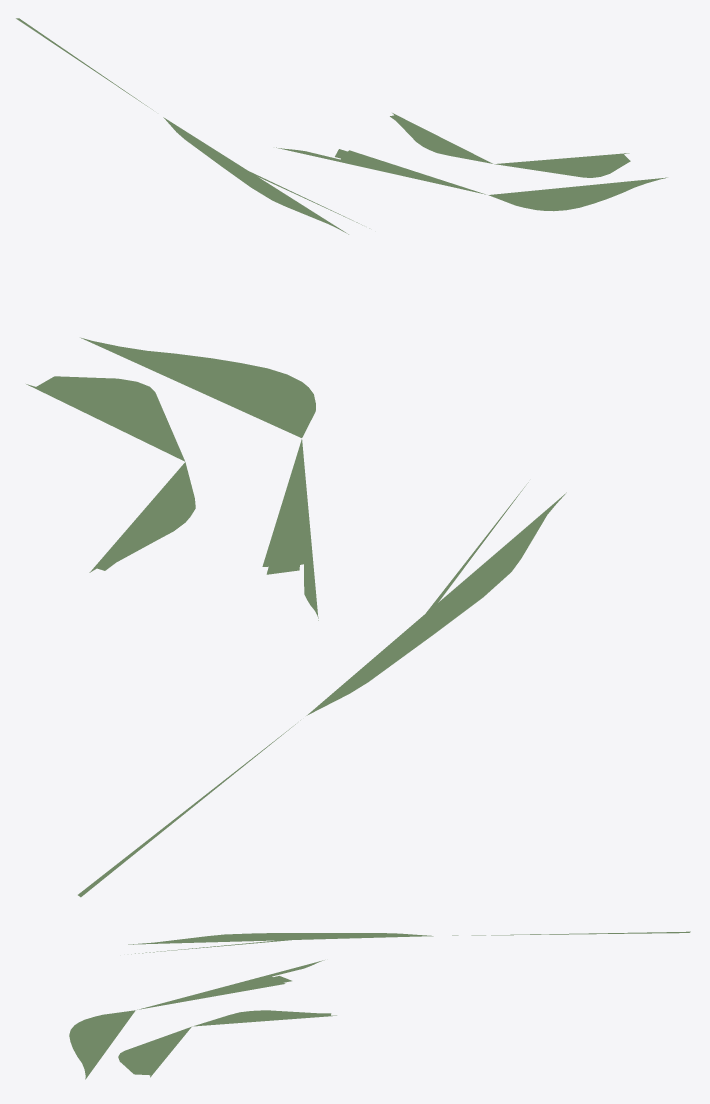
Rendered from c_1642_17814_parks.glb.
3 renders of one model, top to bottom at view 1: azimuth 30°, elevation 25°; view 2: azimuth 150°, elevation 25°; view 3: azimuth 270°, elevation 25°, orthographic. The views are drawn at different scales.
Parts seen in each view (by area): view 1: geometry_0; view 2: geometry_0; view 3: geometry_0.
Part boxes in pixels (left/top/right/bottom): geometry_0: left=16, top=18, right=667, bottom=234; geometry_0: left=26, top=337, right=566, bottom=897; geometry_0: left=69, top=931, right=690, bottom=1079.
Size of the model in its own units: 170 by 0 by 301.
